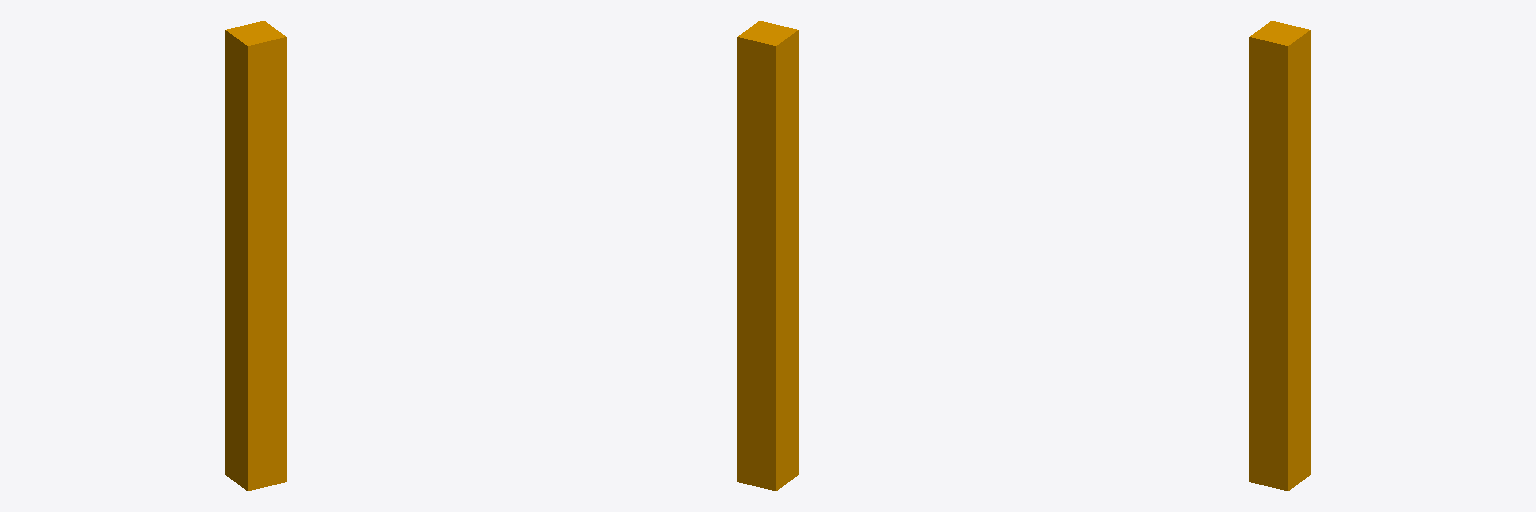
robot.urdf — block:
<robot name="block">
  <link name="block">
    <inertial>
      <origin xyz="0.005 0.005 0.055" />
      <mass value="0.2" />
      <inertia  ixx="1" ixy="0.0"  ixz="0.0"  iyy="1"  iyz="0.0"  izz="1" />
    </inertial>
    <visual>
      <origin xyz="0.005 0.005 0.055"/>
      <geometry>
        <box size="0.01 0.01 0.11" />
      </geometry>
    </visual>
    <collision>
      <origin xyz="0.005 0.005 0.055"/>
      <geometry>
        <box size="0.01 0.01 0.11" />
      </geometry>
    </collision>
  </link>
  <gazebo reference="block">
    <material>Gazebo/Orange</material>
     <mu1>1000</mu1>
     <mu2>1000</mu2>
  </gazebo>
</robot>

--- What the picture shows (computed from the rendered views, not written in the file) ---
3 views of the same robot in one strip: view 1: azimuth 30°, elevation 25°; view 2: azimuth 150°, elevation 25°; view 3: azimuth 330°, elevation 25° (orthographic).
Robot: block — 1 links, 0 joints (none); root link block; default pose: every joint at zero.
Visible links, largest first — view 1: block; view 2: block; view 3: block.
Boxes of the visible links, x1,y1,x2,y2 form: block: (225,21,286,490); block: (737,21,798,490); block: (1249,21,1310,490).
Bounding box of the posed robot: 0.01 × 0.01 × 0.11 m (x, y, z).
Geometry: primitives only (box / cylinder / sphere), no mesh files.